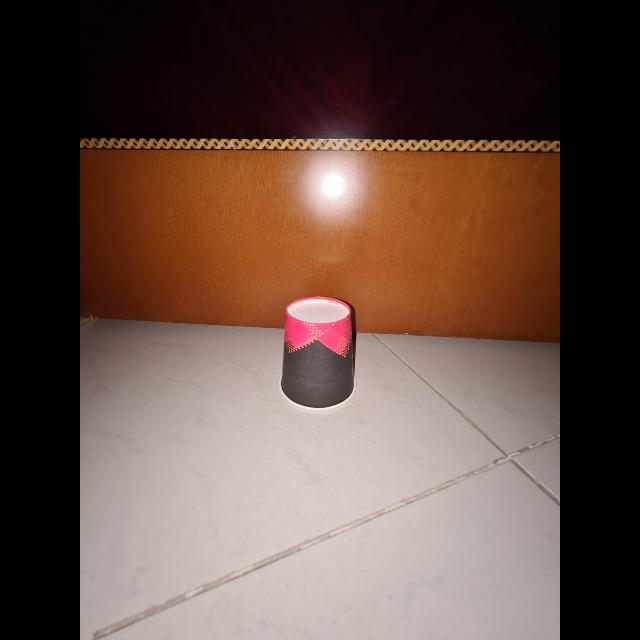trash: (278, 296, 358, 414)
